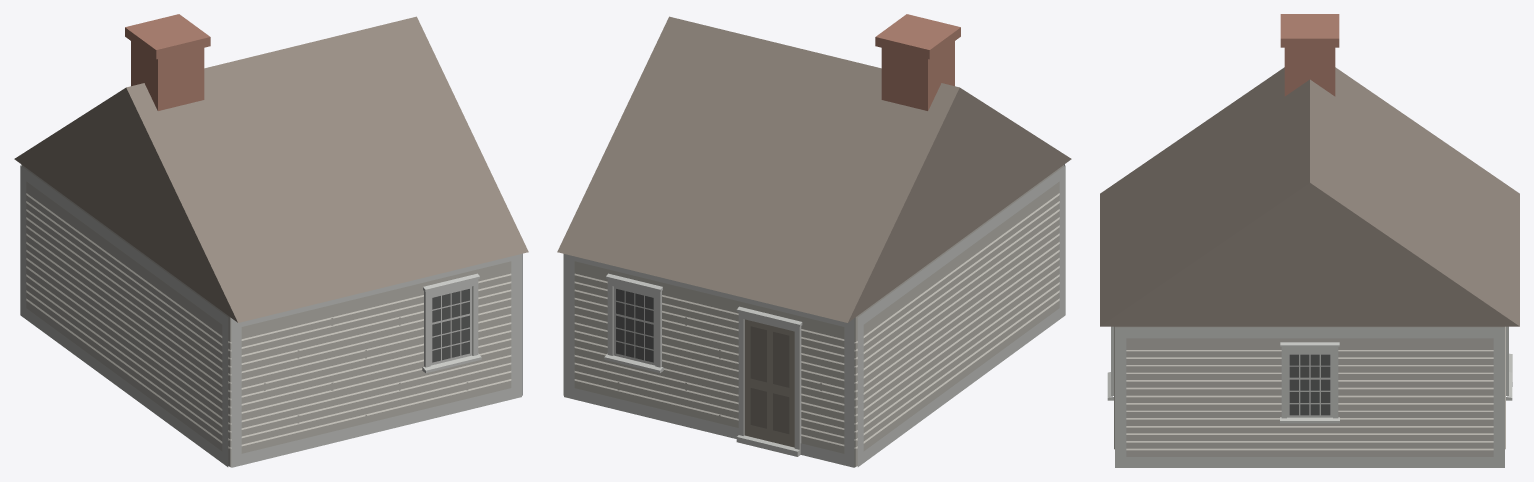
File: recon_1835_south_d3_001__inferred_1835.glb
The picture shows the model from 3 angles, left to right: view 1: azimuth 30°, elevation 25°; view 2: azimuth 150°, elevation 25°; view 3: azimuth 270°, elevation 25°; orthographic projection. The views are drawn at different scales.
Visible parts, largest first — view 1: recon_1835_south_d3_001__inferred_1835; view 2: recon_1835_south_d3_001__inferred_1835; view 3: recon_1835_south_d3_001__inferred_1835.
Boxes of the visible parts, left/top/right/bottom form: recon_1835_south_d3_001__inferred_1835: left=14, top=14, right=528, bottom=467; recon_1835_south_d3_001__inferred_1835: left=557, top=14, right=1071, bottom=467; recon_1835_south_d3_001__inferred_1835: left=1100, top=14, right=1519, bottom=467.
Bounding box in the file's own units: 5.4 × 6.02 × 7.01.
